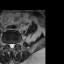CCS_normal: (10, 42, 13, 49)
LFS_severe_stenosis: (15, 40, 17, 46)
LLS_normal: (13, 41, 15, 49)
RFS_stenosis: (6, 40, 8, 47)
RLS_normal: (8, 41, 10, 48)
